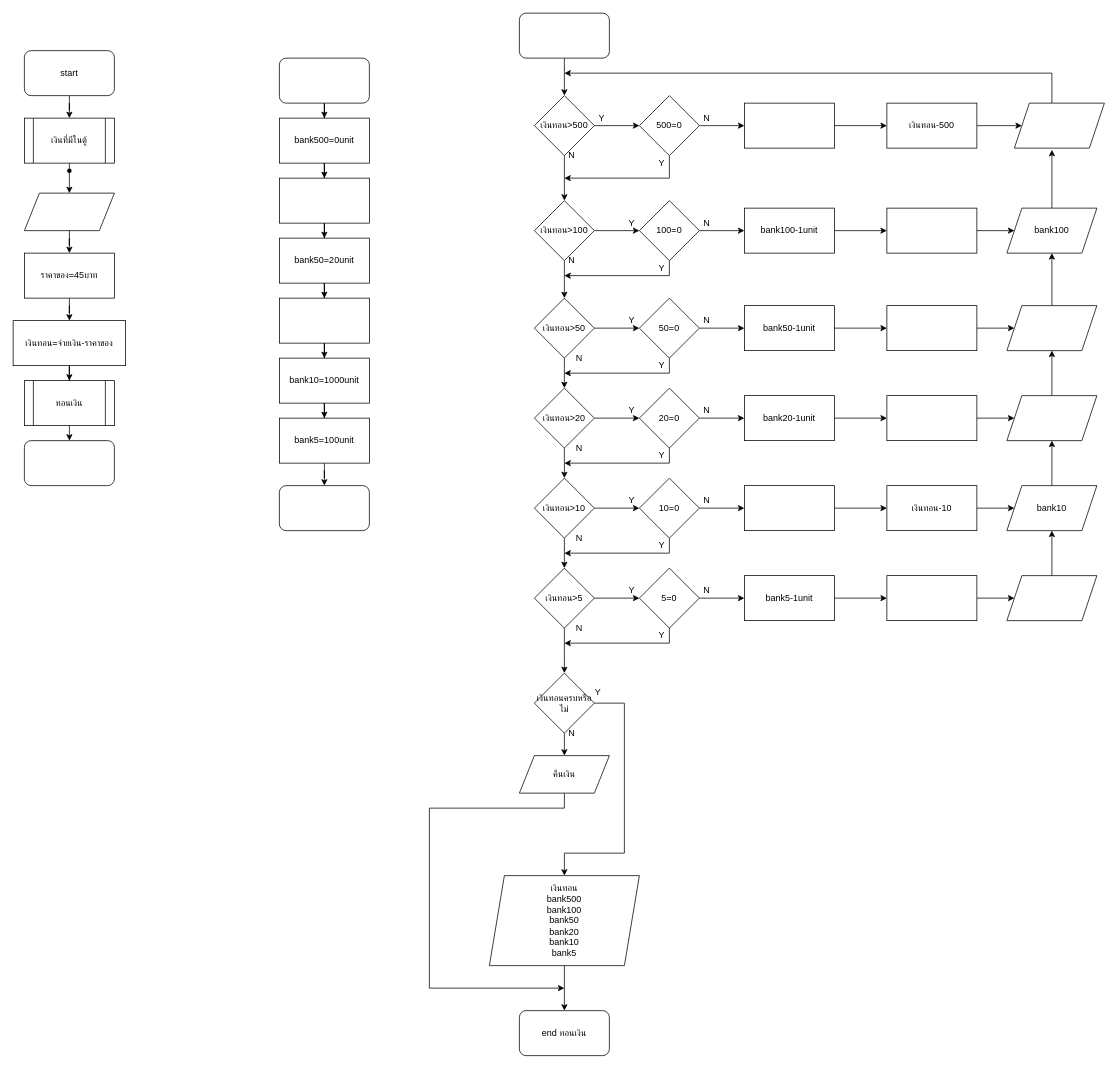
The diagram is 1118 pixels wide and 1069 high, and some of its shapes have lost their labels. Each missing label, with the centre of its shape:
"bank10-1unit" belongs at point (789, 508).
"bank100=5unit" belongs at point (324, 200).
"bank20" belongs at point (1051, 418).
"bank20=10unit" belongs at point (324, 320).
"bank5" belongs at point (1051, 598).
"bank50" belongs at point (1051, 328).
"bank500" belongs at point (1059, 125).
"bank500-1unit" belongs at point (789, 125).
"end" belongs at point (69, 463).
"end เงินที่มีในตู้" belongs at point (324, 508).
"start เงินทอน" belongs at point (564, 35).
"start เงินที่มีในตู้" belongs at point (324, 80).
"จ่ายเงิน=1000บาท" belongs at point (69, 211).
"เงินทอน-100" belongs at point (931, 230).
"เงินทอน-20" belongs at point (931, 418).
"เงินทอน-5" belongs at point (931, 598).
"เงินทอน-50" belongs at point (931, 328).
